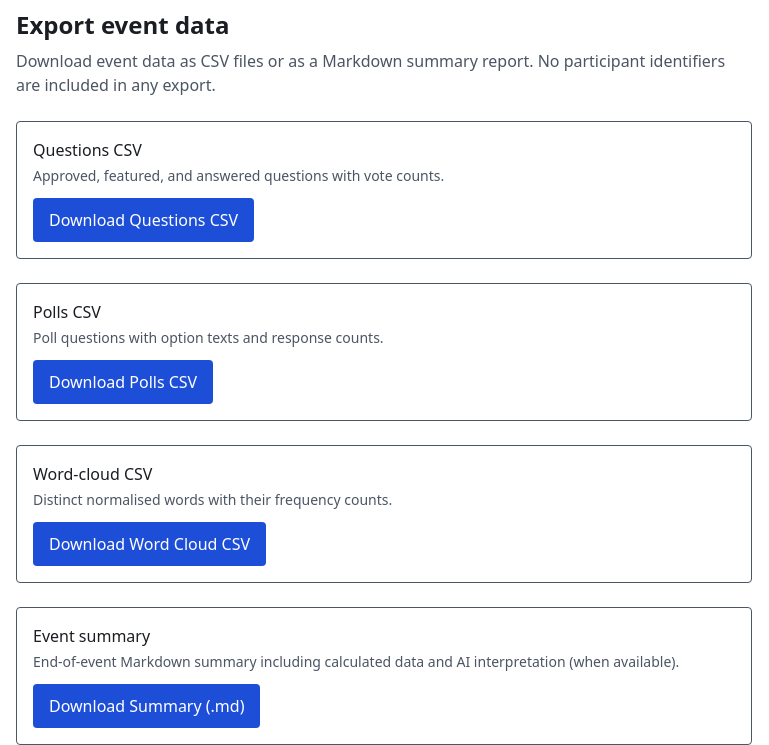
ExportPanel — Download Summary error state (Req 9.7) › shows an error alert when exportEventSummary returns export_failed
Click the button "Download Summary (.md)". click: click(147, 706)
box: top-left (33, 684), bottom-right (260, 728)
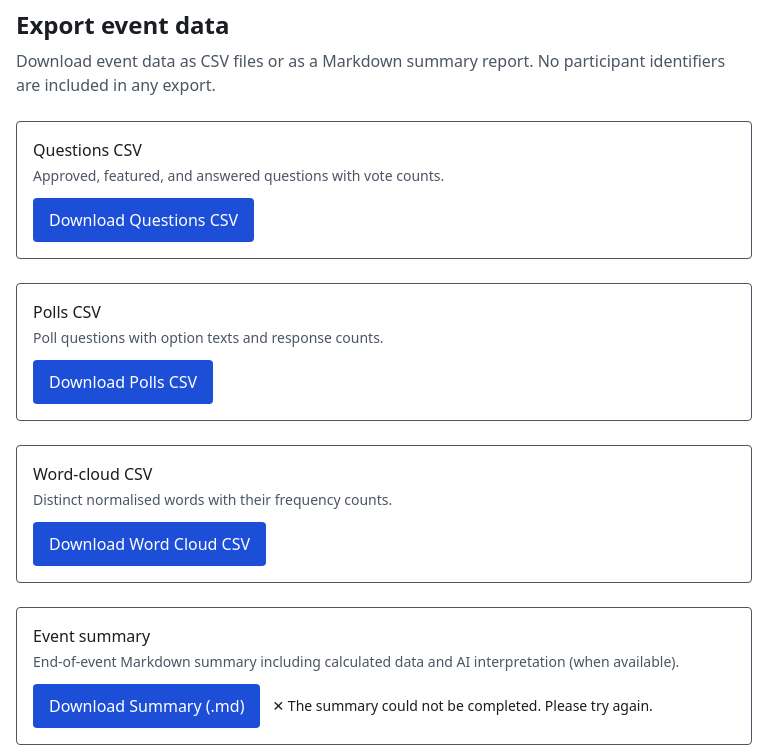
Result: the message shows "summary could not be completed" at top-left (288, 696), bottom-right (653, 715)
